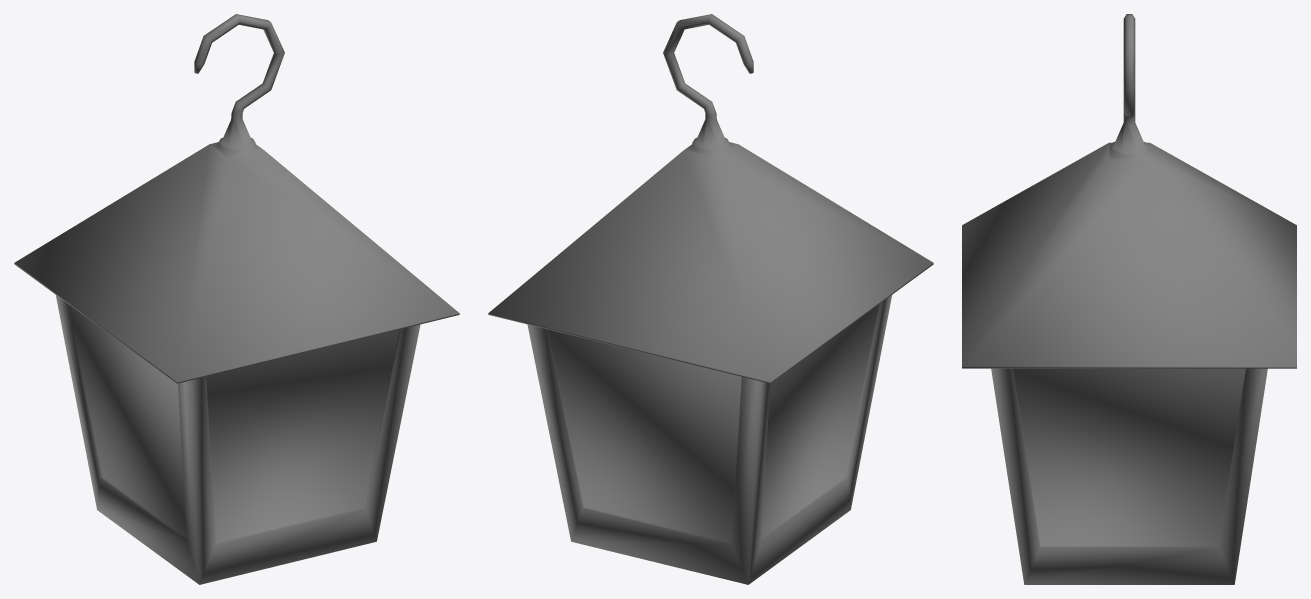
The model's file is medieval_lantern.fbx.
3 views of the same model, side by side, from view 1: azimuth 30°, elevation 25°; view 2: azimuth 150°, elevation 25°; view 3: azimuth 270°, elevation 25° (orthographic). The views are drawn at different scales.
Parts seen in each view (by area): view 1: lantern; view 2: lantern; view 3: lantern.
Boxes of the visible parts, <box> form: lantern: <box>14,14,459,584</box>; lantern: <box>488,14,933,584</box>; lantern: <box>962,14,1296,584</box>.
Size of the model in its own units: 19.99 by 34.58 by 19.99.
